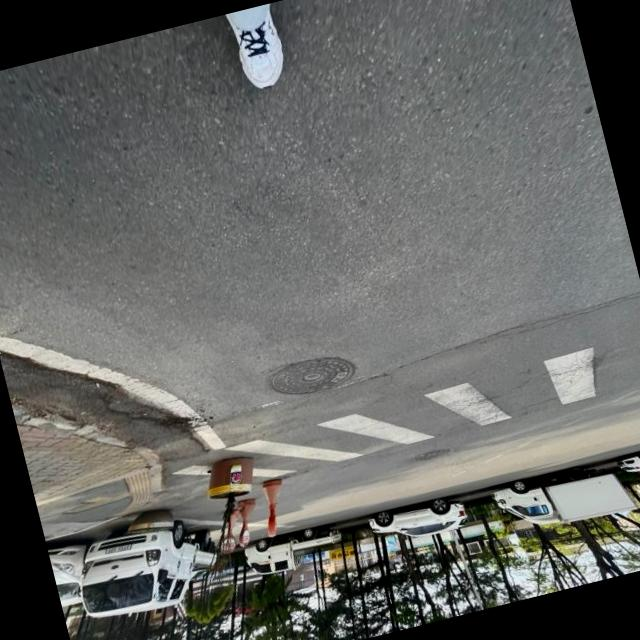manhole: (240, 328, 372, 414)
